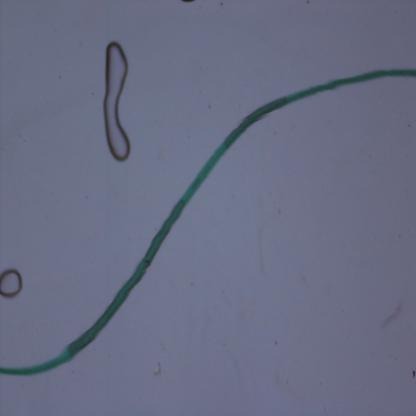Air bubble: (101, 38, 131, 164), (0, 265, 23, 301)
Microfibre: (0, 63, 416, 376)
